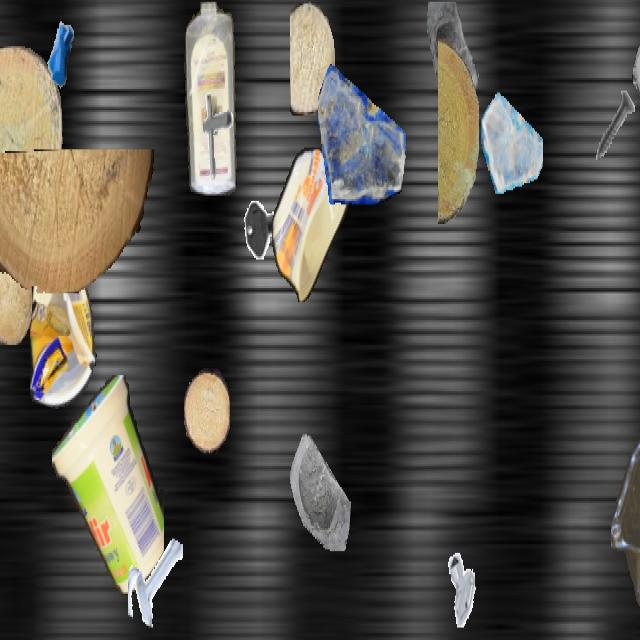glass: (318, 52, 406, 208), (277, 418, 351, 549), (423, 1, 487, 116), (481, 84, 543, 194), (632, 2, 640, 112)
metal: (33, 2, 87, 98), (128, 530, 182, 626), (188, 87, 242, 183), (589, 80, 640, 176), (442, 548, 486, 626), (242, 190, 284, 265), (634, 172, 640, 265)
plastic: (52, 375, 164, 596), (272, 147, 350, 300), (30, 235, 98, 409), (182, 2, 240, 194), (611, 279, 640, 638)
wood: (0, 150, 155, 292), (0, 46, 62, 231), (438, 39, 478, 224), (290, 1, 334, 116), (184, 368, 230, 453), (0, 258, 31, 343)
